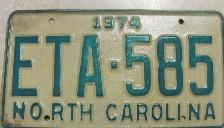5: (123, 33, 154, 97), (187, 33, 216, 97)
8: (155, 34, 185, 98)
A: (74, 33, 108, 99)
E: (9, 32, 43, 100)
T: (44, 34, 73, 98)
